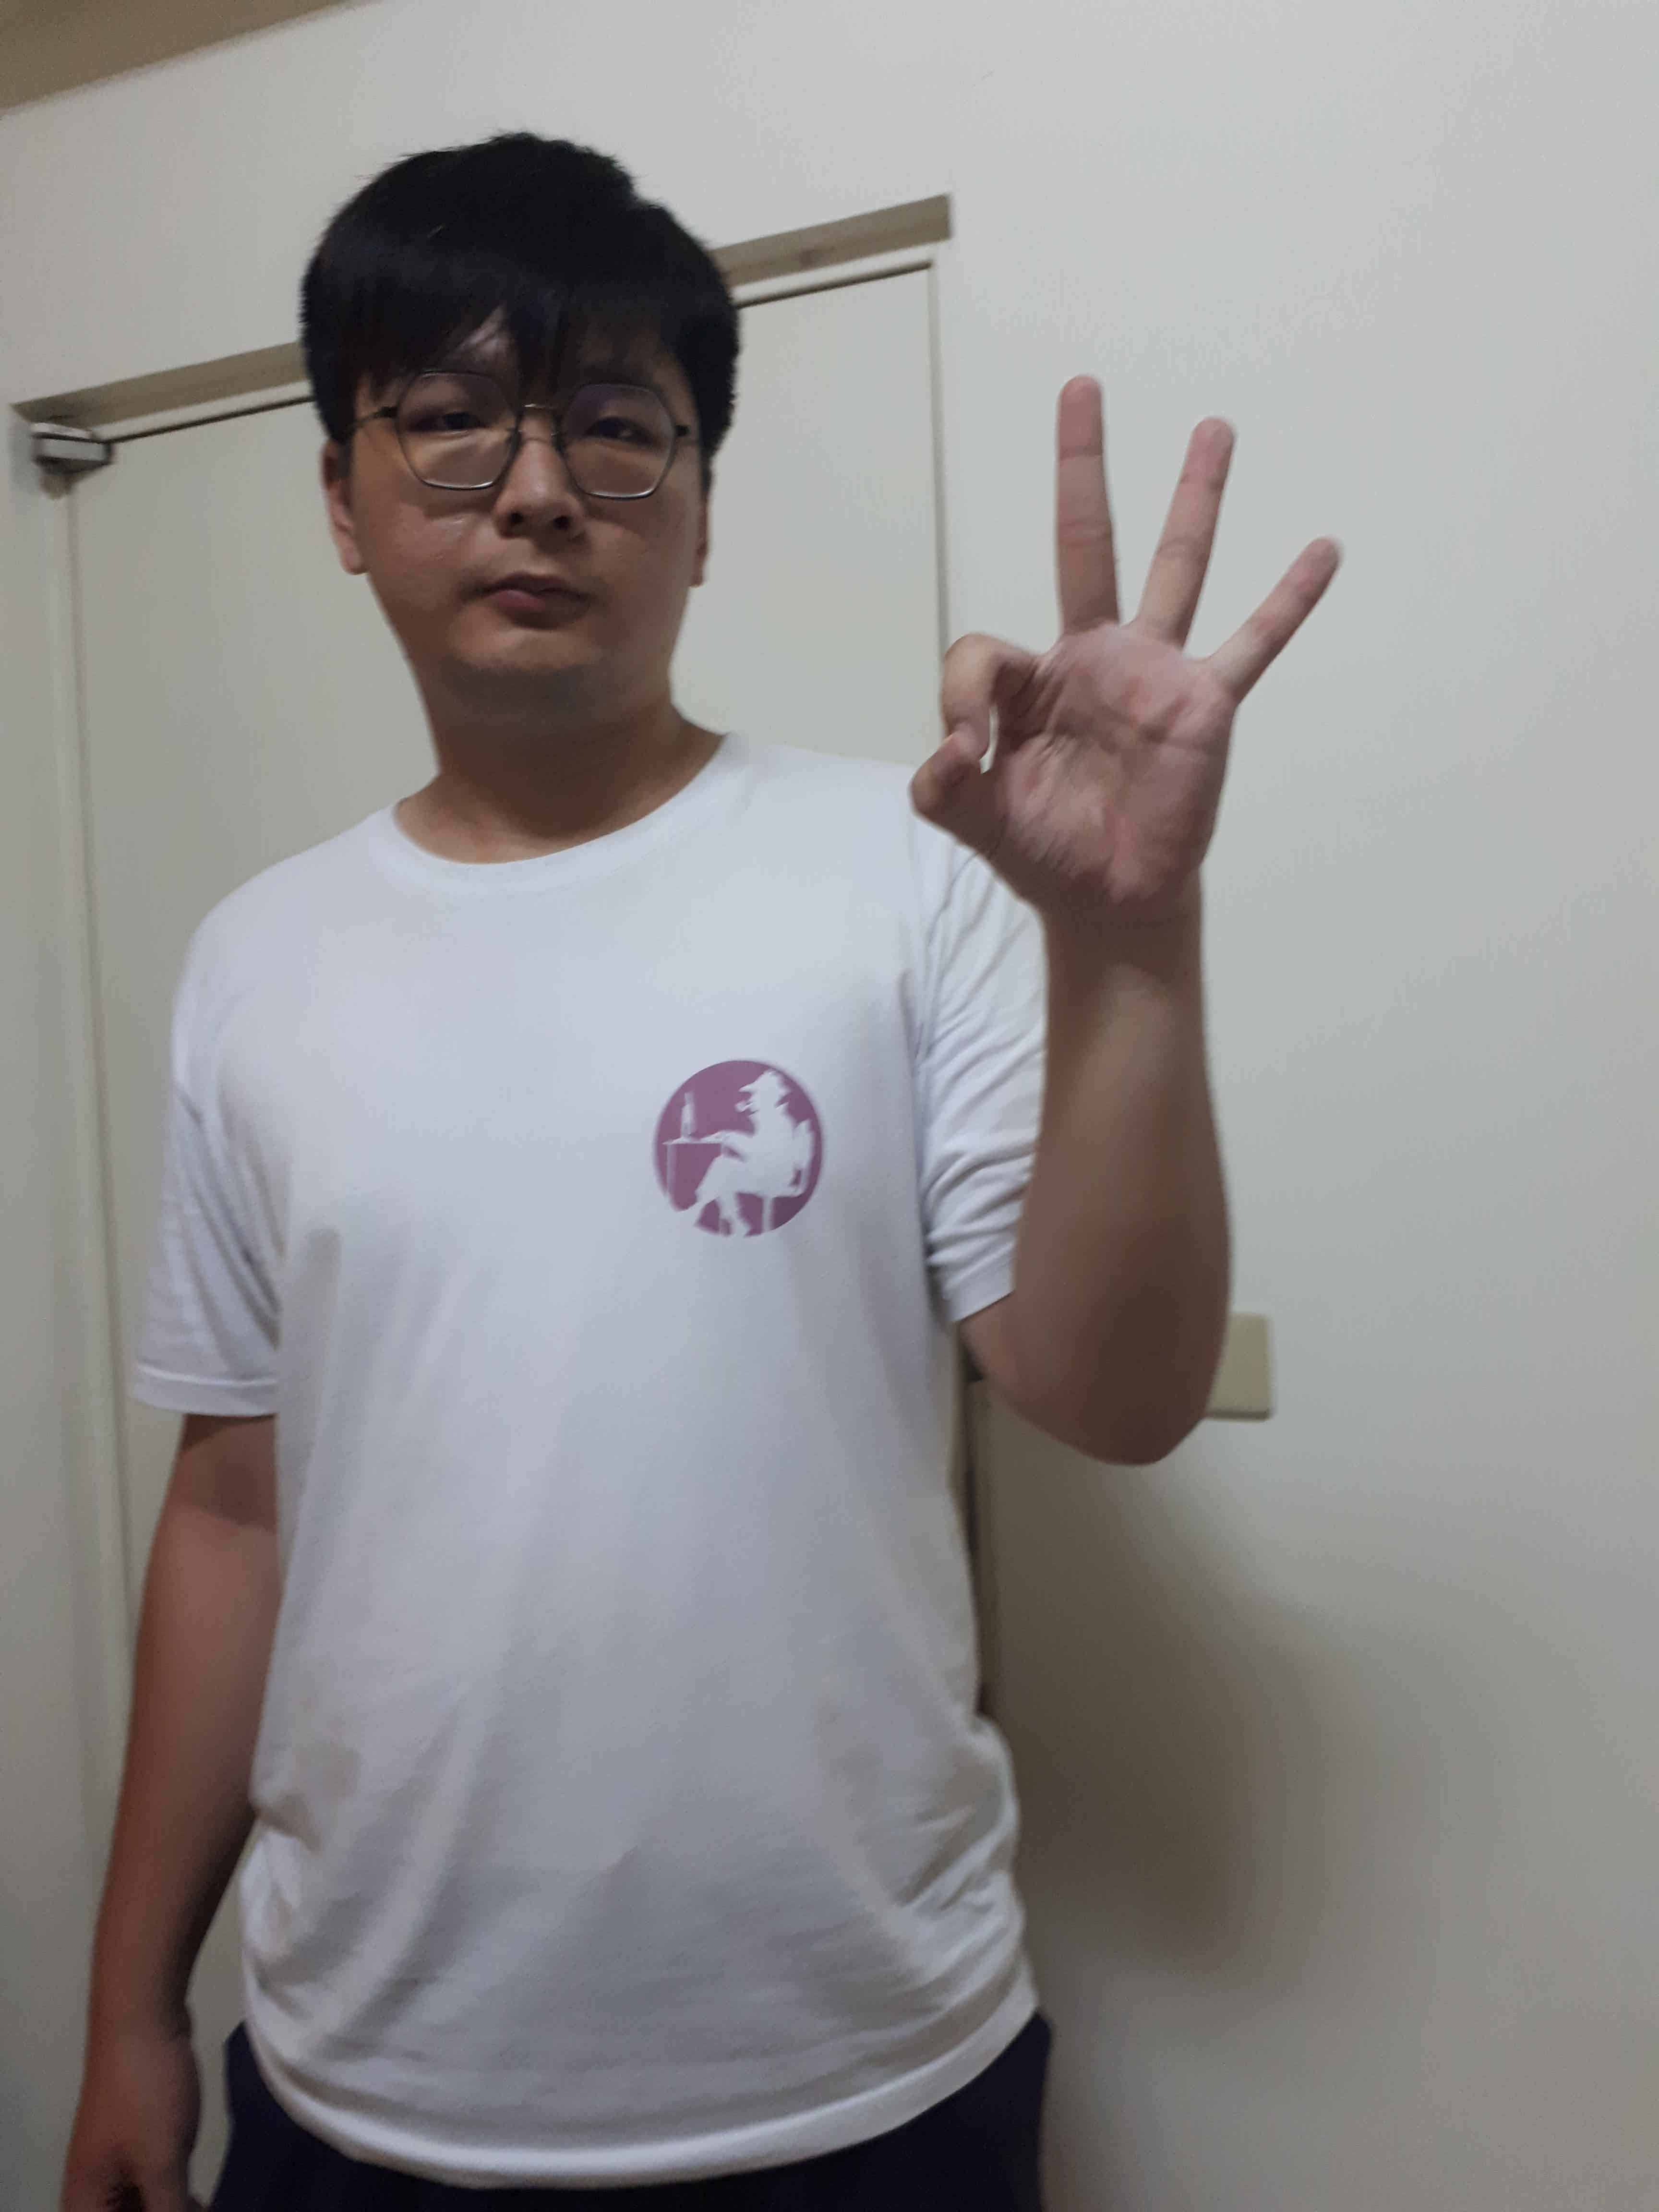ok: (901, 364, 1356, 954)
